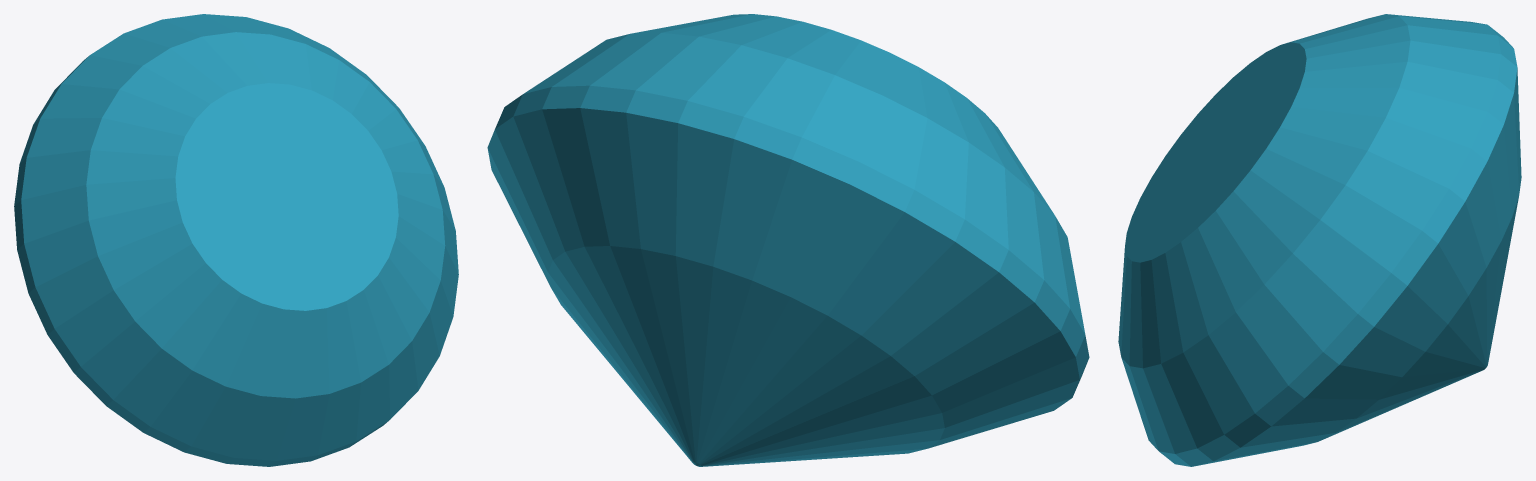
File: zircon.glb
The picture shows the model from 3 angles, left to right: view 1: azimuth 30°, elevation 25°; view 2: azimuth 150°, elevation 25°; view 3: azimuth 270°, elevation 25°; orthographic projection. The views are drawn at different scales.
Visible parts, largest first — view 1: zircon; view 2: zircon; view 3: zircon.
Boxes of the visible parts, box(x1,y1,x2,y2) form: zircon: box(14, 14, 458, 466); zircon: box(487, 14, 1089, 466); zircon: box(1118, 14, 1521, 466).
Size of the model in its own units: 2.1 by 1.69 by 1.57.
